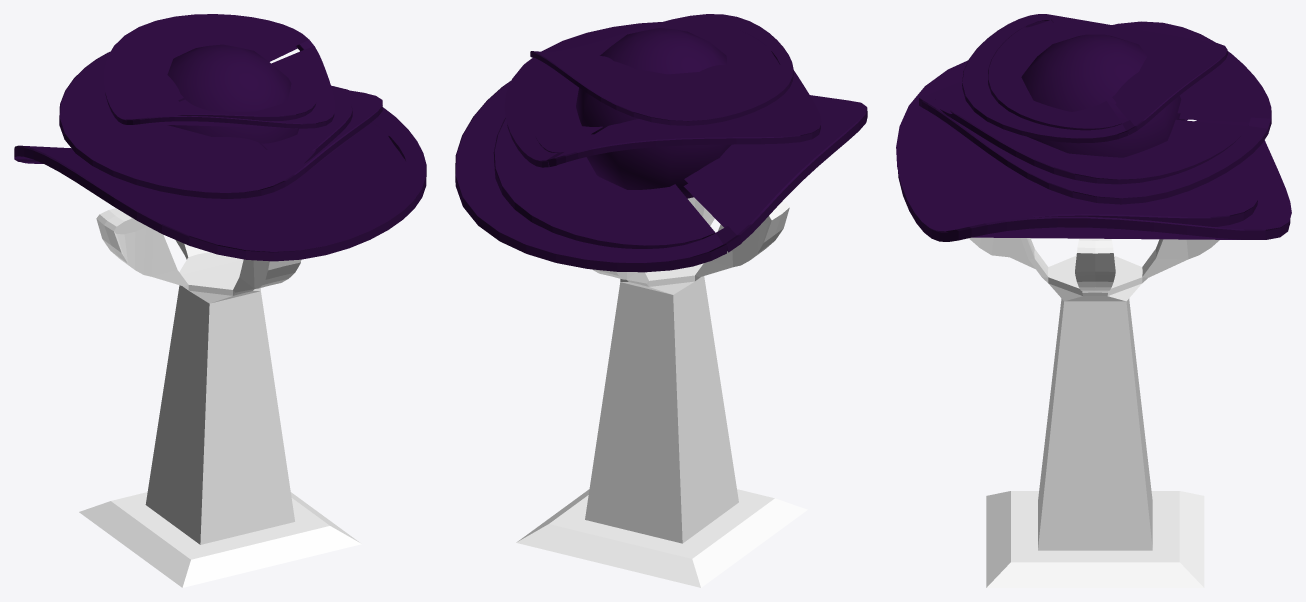
The model's file is ralentisseur.fbx.
3 views of the same model, side by side, from view 1: azimuth 30°, elevation 25°; view 2: azimuth 150°, elevation 25°; view 3: azimuth 270°, elevation 25° (orthographic). The views are drawn at different scales.
Visible parts, largest first — view 1: Ralentisseur, BézierCircle.006, BézierCircle.004, BézierCircle.005, Sphere; view 2: Ralentisseur, BézierCircle.006, BézierCircle.005, BézierCircle.004, Sphere; view 3: Ralentisseur, BézierCircle.006, BézierCircle.004, BézierCircle.005, Sphere.
Boxes of the visible parts, x1,y1,x2,y2 form: Ralentisseur: (79,208,361,587); BézierCircle.006: (14,85,426,261); BézierCircle.004: (59,51,382,198); BézierCircle.005: (103,14,335,128); Sphere: (167,44,298,149); Ralentisseur: (516,197,807,587); BézierCircle.006: (455,81,867,272); BézierCircle.005: (530,14,793,125); BézierCircle.004: (504,22,821,167); Sphere: (576,28,731,198); Ralentisseur: (969,237,1219,587); BézierCircle.006: (896,60,1291,241); BézierCircle.004: (919,21,1271,204); BézierCircle.005: (962,14,1227,143); Sphere: (1021,34,1184,157).
Size of the model in its own units: 0.5221 by 0.5416 by 0.7552.
